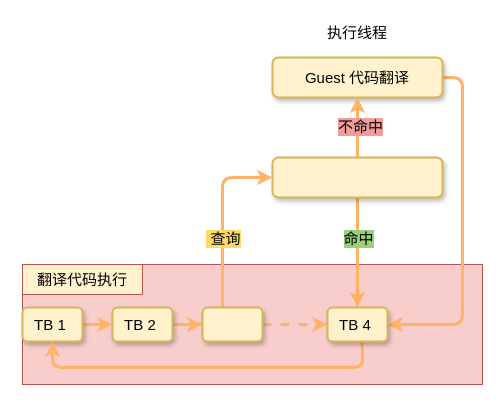
This 500x402 diagram has some shape labels left out. Each missing label, with the centre of its shape:
Code Cache: (358,178)
TB 3: (233,325)
